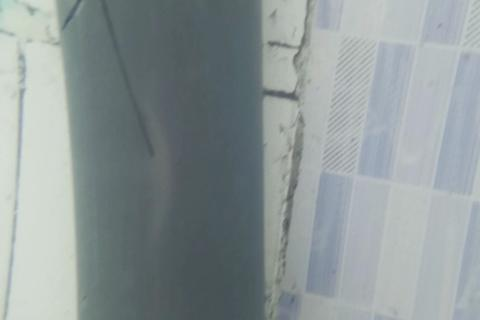keretakan: (60, 0, 156, 162)
